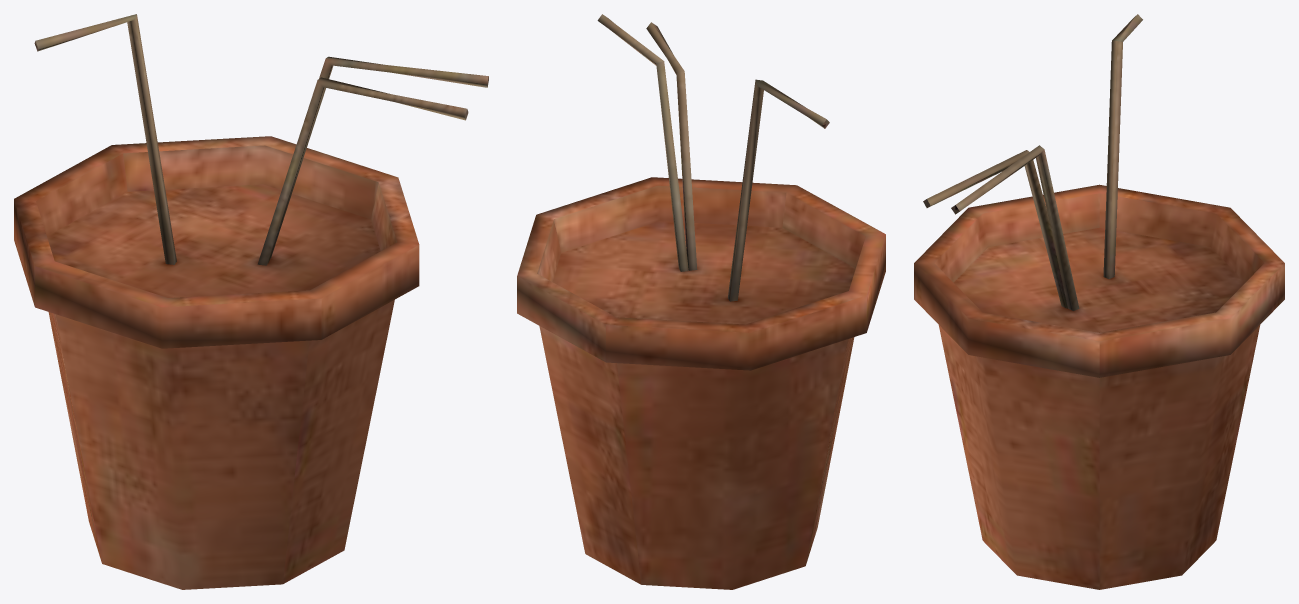
Rendered from flower_pot_dead_lod1_web.glb.
3 renders of one model, left to right at view 1: azimuth 30°, elevation 25°; view 2: azimuth 150°, elevation 25°; view 3: azimuth 270°, elevation 25°, orthographic. The views are drawn at different scales.
Parts seen in each view (by area): view 1: FlowerPotDead_Body; view 2: FlowerPotDead_Body; view 3: FlowerPotDead_Body.
Boxes of the visible parts, x1=… form: FlowerPotDead_Body: x1=14, y1=14, x2=488, y2=589; FlowerPotDead_Body: x1=517, y1=14, x2=885, y2=589; FlowerPotDead_Body: x1=914, y1=14, x2=1284, y2=589.
Size of the model in its own units: 0.1899 by 0.2571 by 0.184.
Materials: 1 (1 with a texture image).
